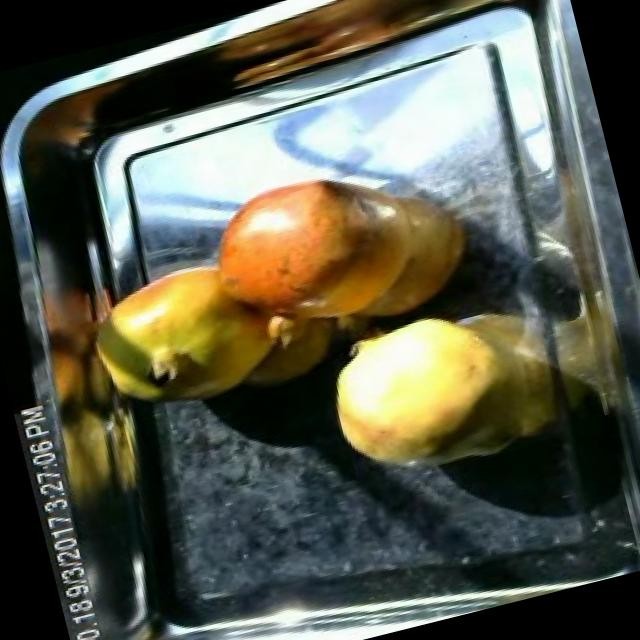fruit: (303, 276, 579, 498), (185, 143, 442, 360), (71, 235, 308, 432)
